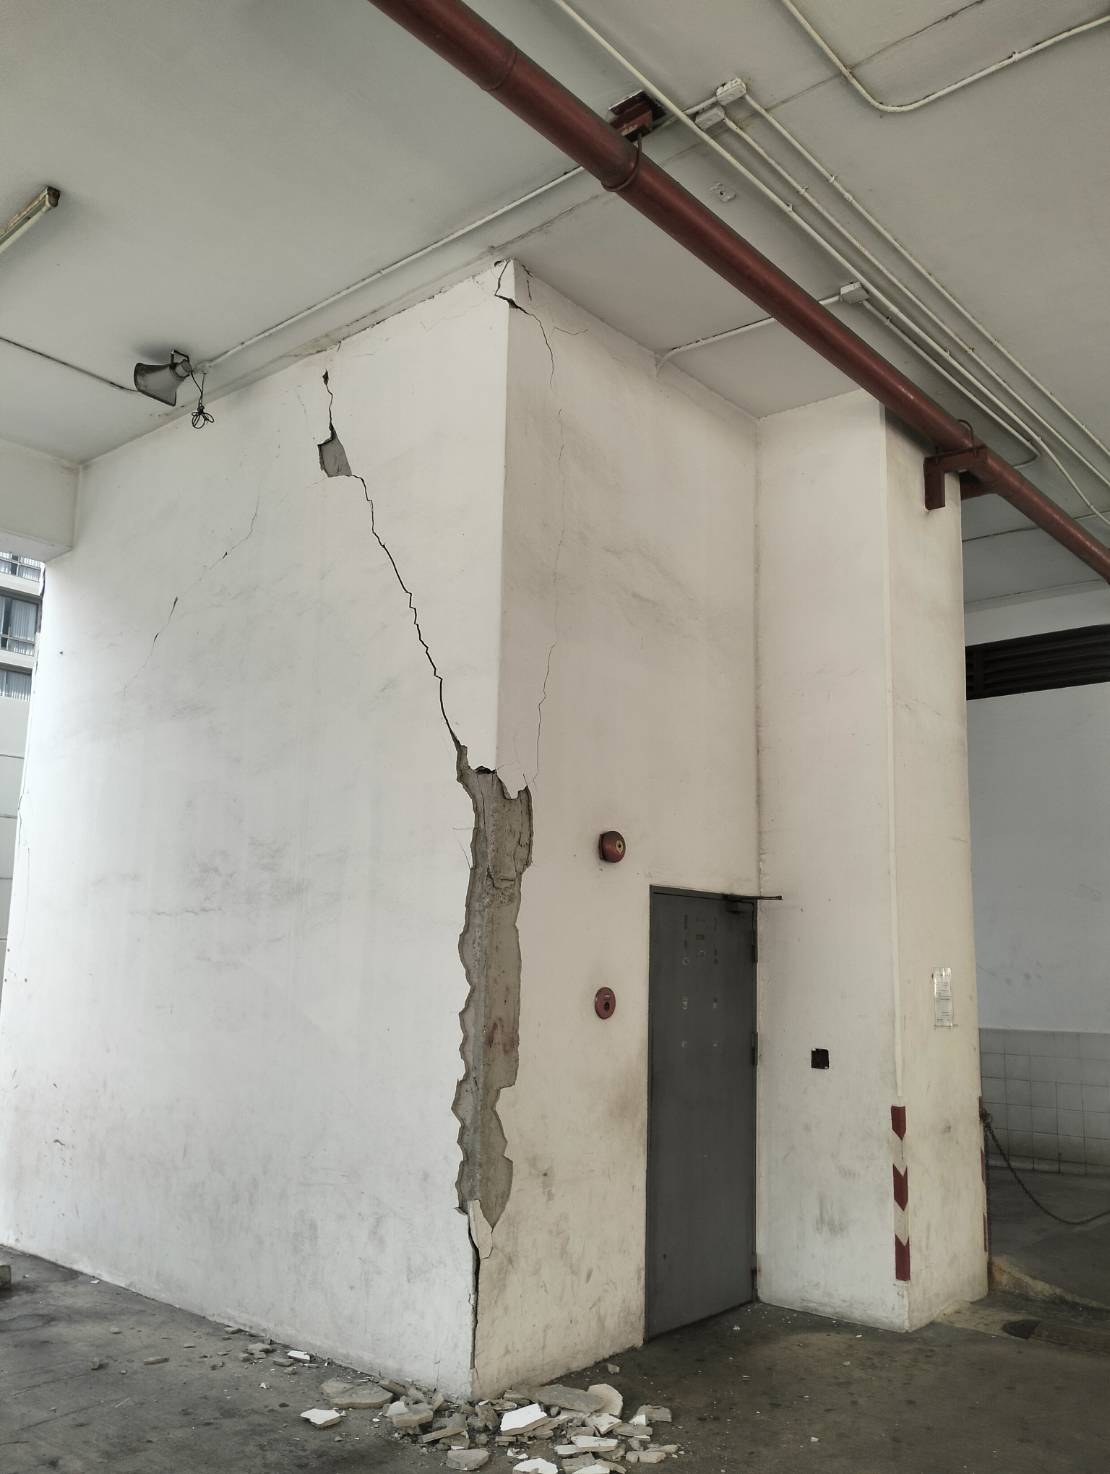Medium: (288, 413, 519, 863)
